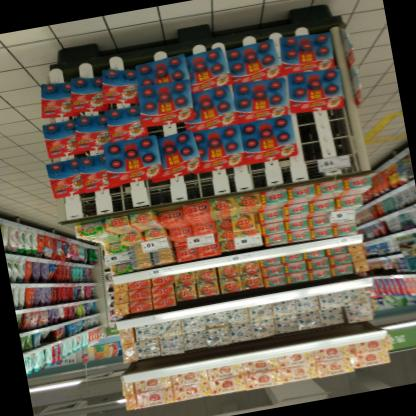empty_space: (293, 106, 361, 180)
